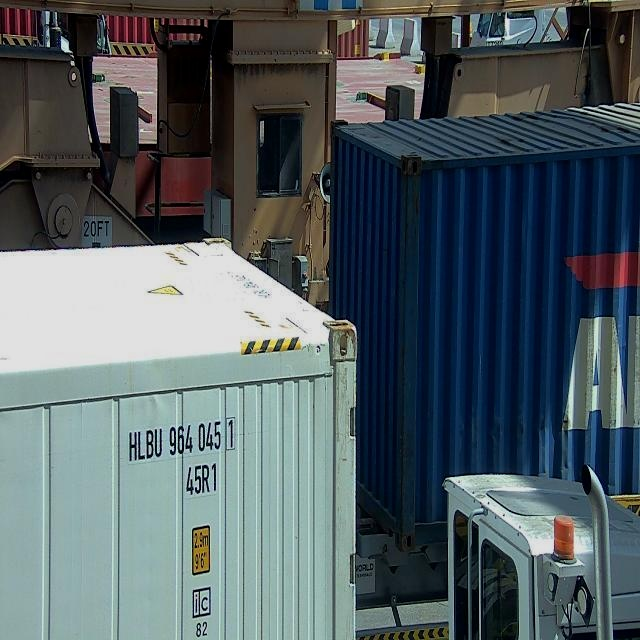Dent: (488, 401, 583, 481)
